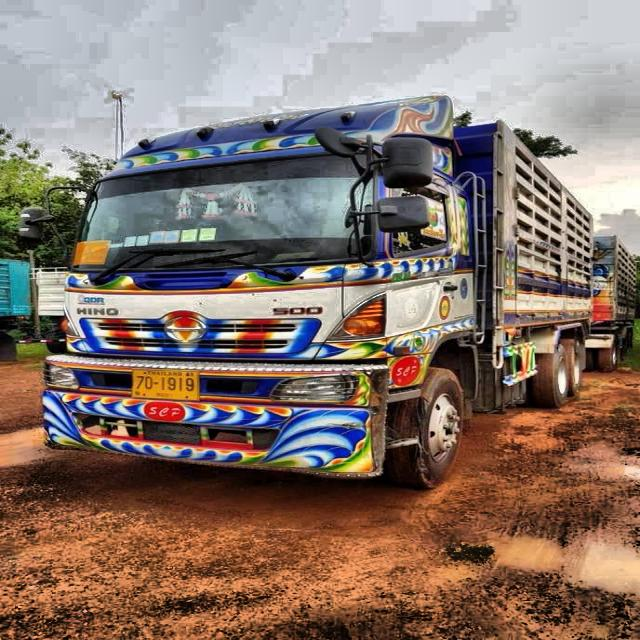trailer: (48, 92, 640, 491)
